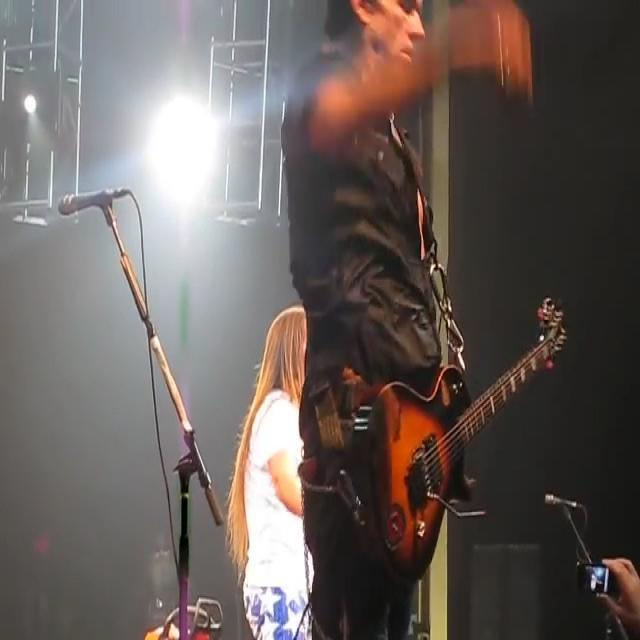Chainsaw: (144, 582, 246, 640)
